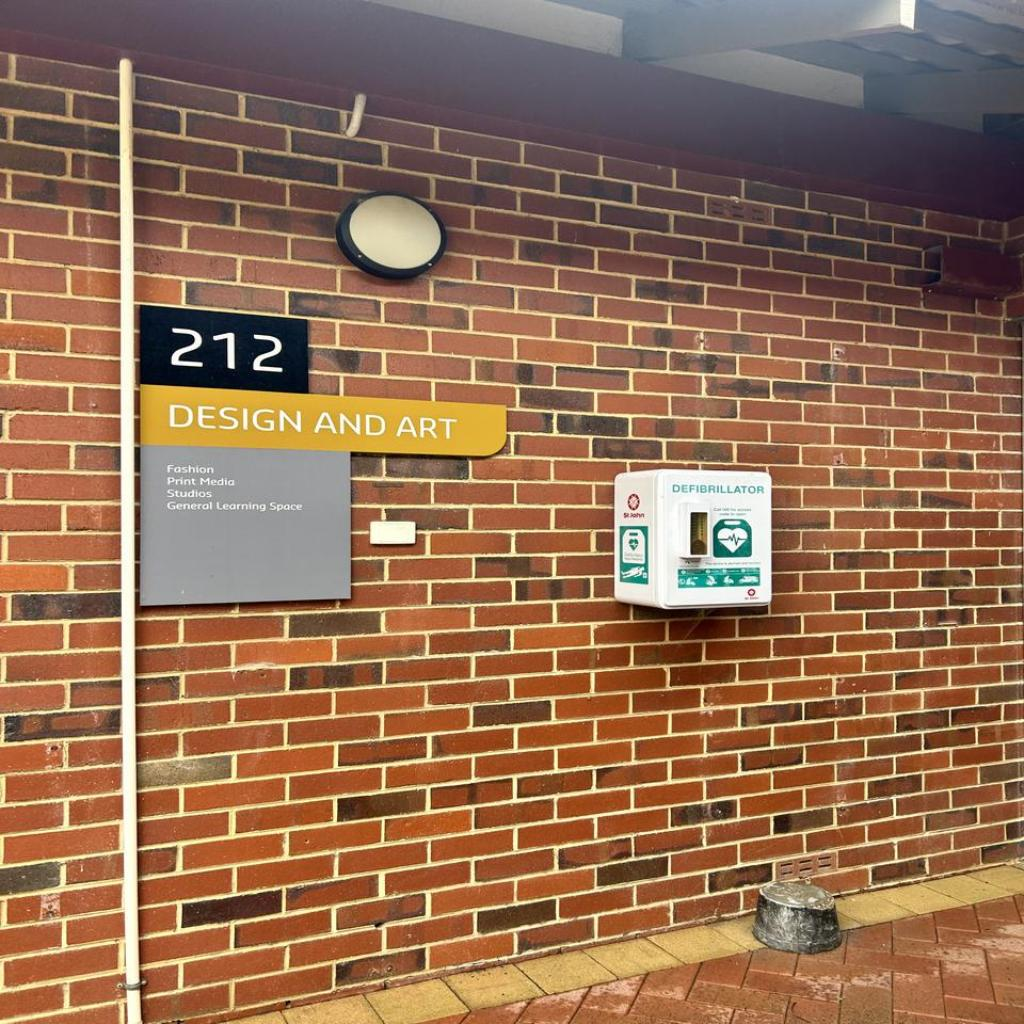BuildingCodes: (168, 322, 288, 378)
